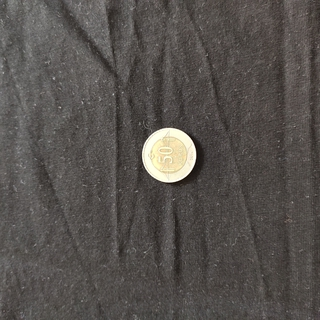50KURUS: (140, 126, 197, 184)
